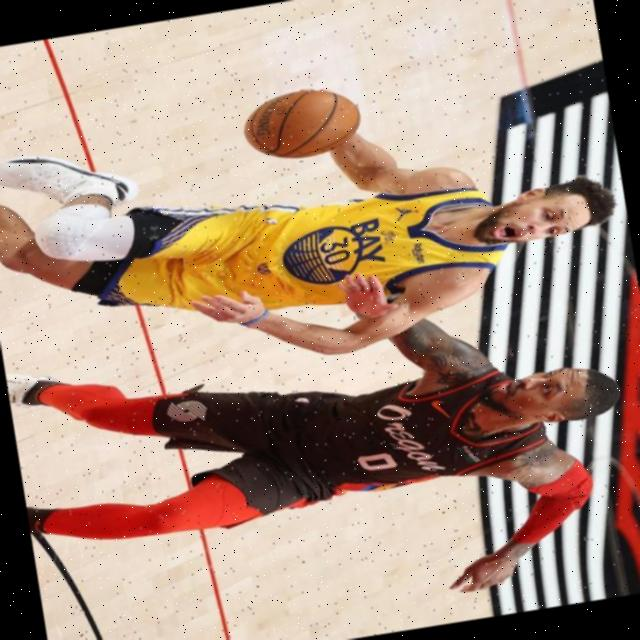ball: (235, 81, 368, 168)
